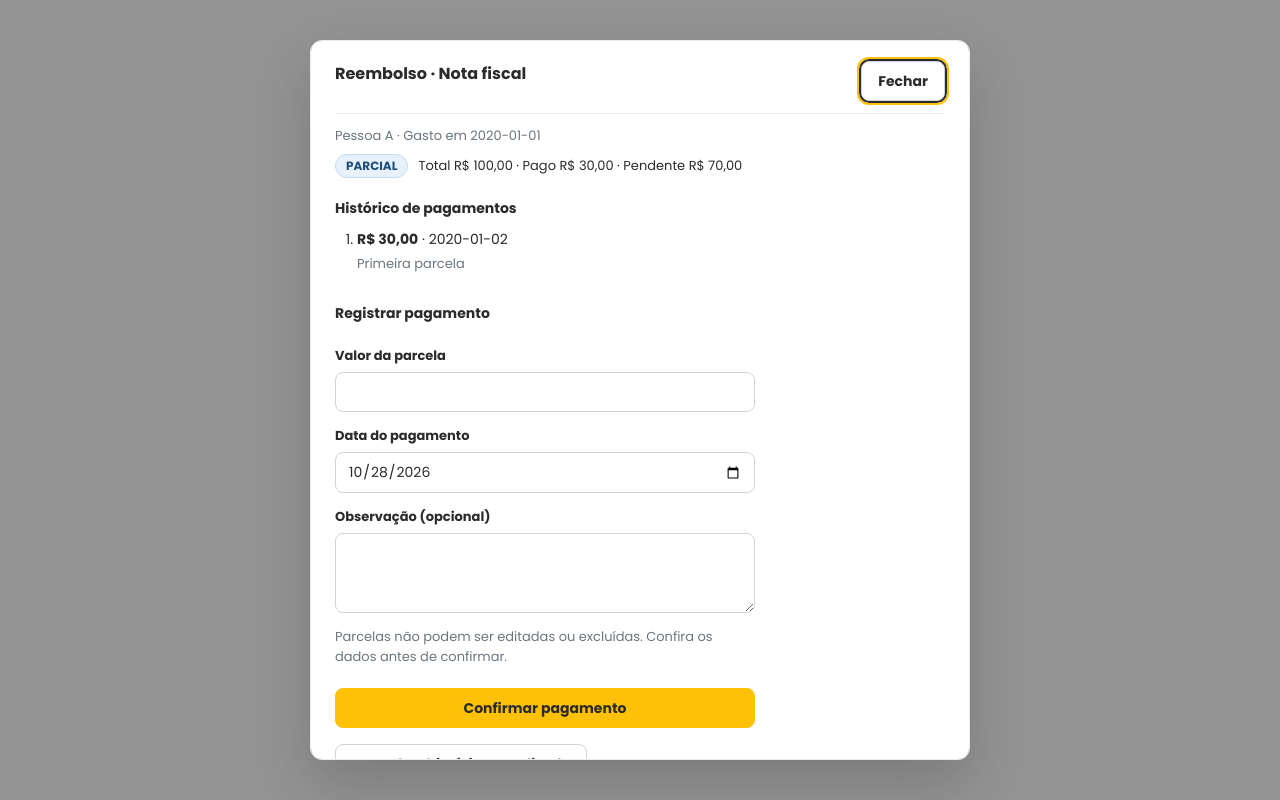
parcelas de reembolso › registra parcela como ADMIN e atualiza resumo
Type "70,00" into the field labelled "Valor da parcela" at (545, 392), box [335,372,755,412]
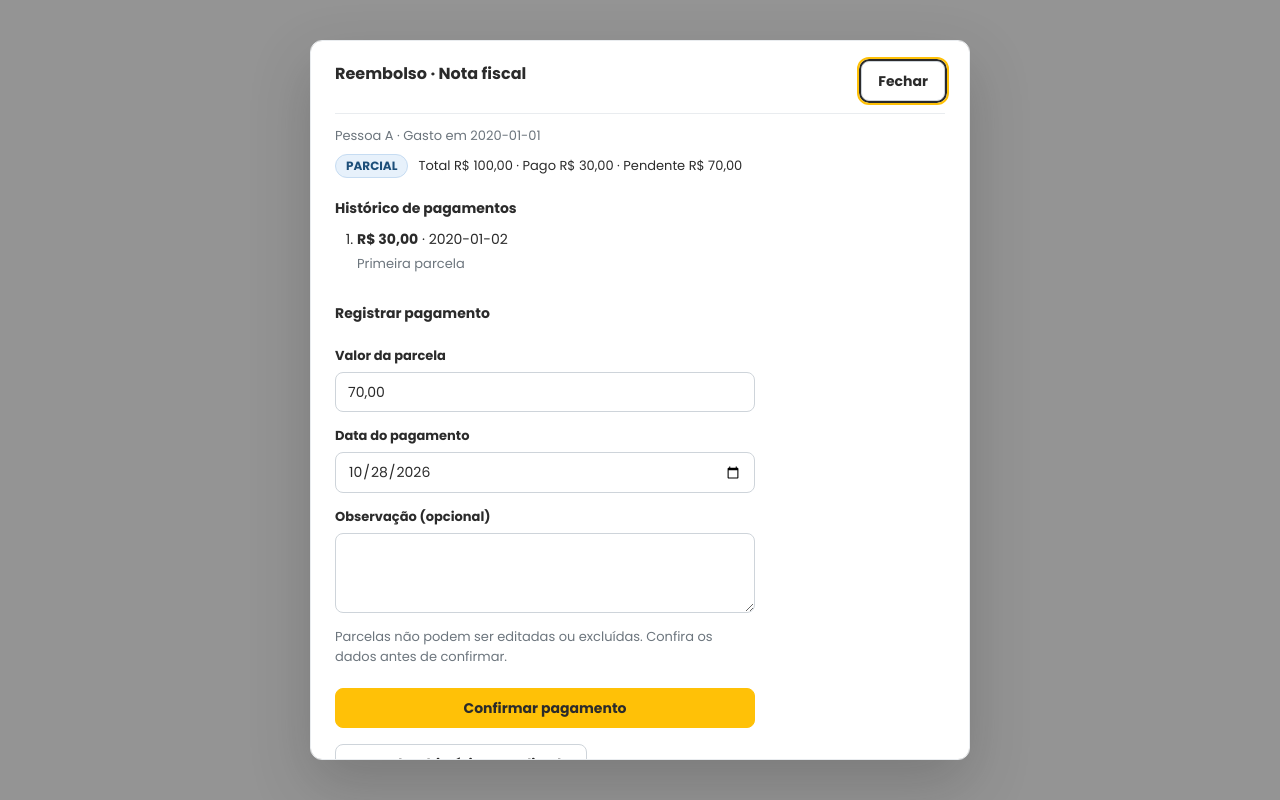
Type "Última parcela" into the text box labelled "Observação (opcional)" at (545, 573), box [335,533,755,613]
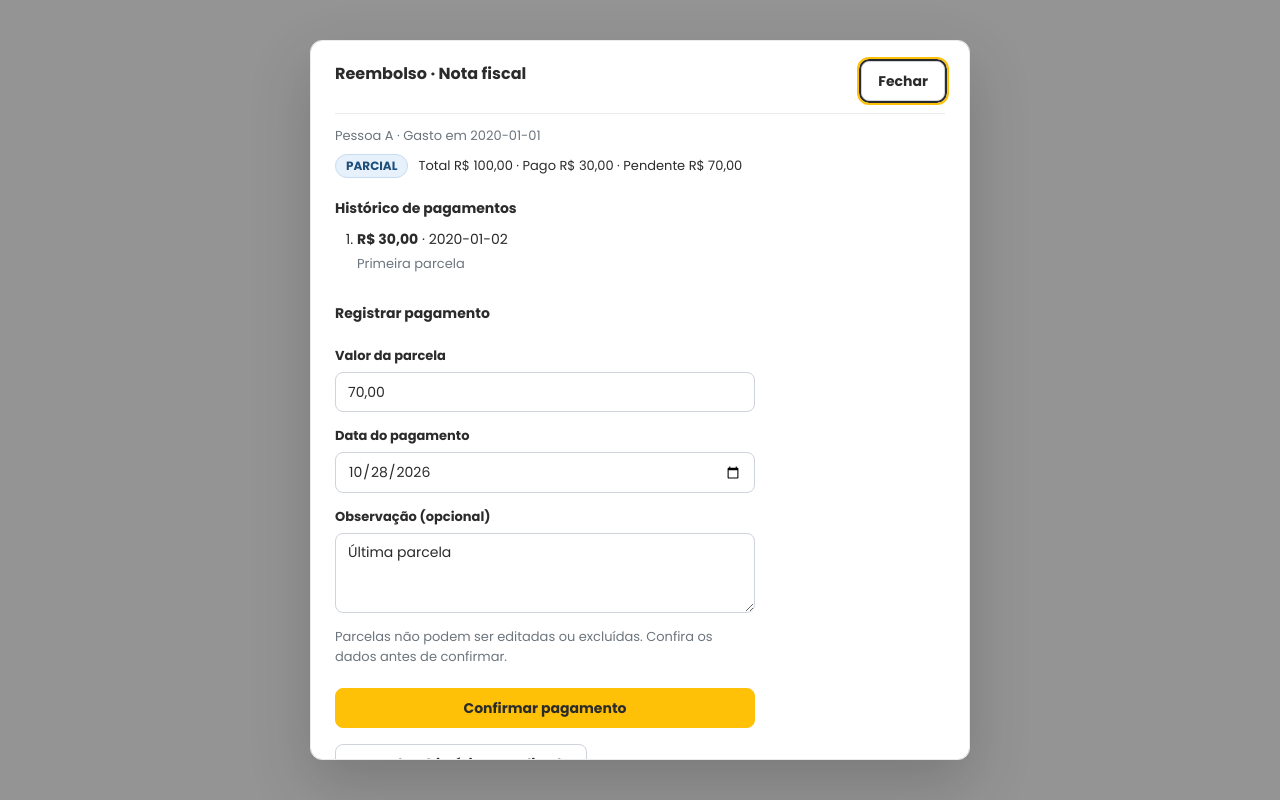
Click the button "Confirmar pagamento" at (545, 708), box [335,688,755,728]
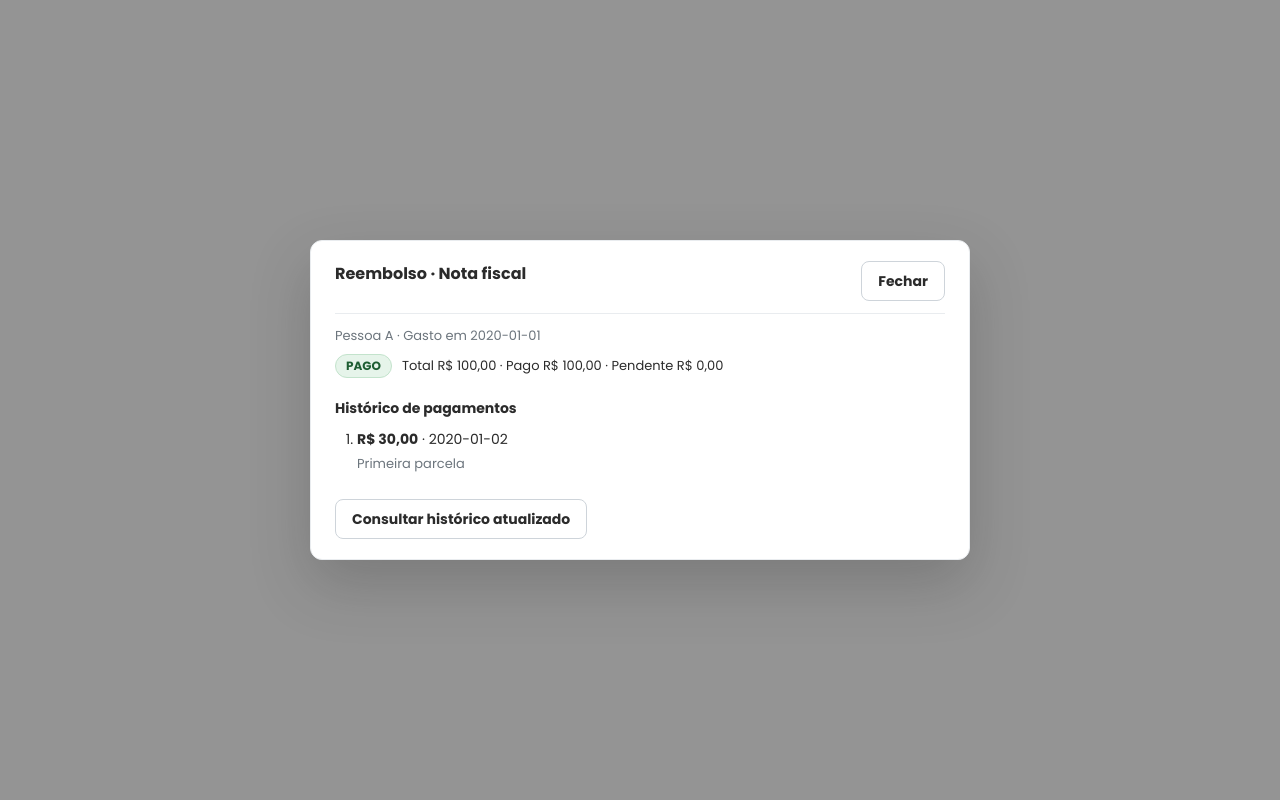
Now the text "PAGO" is shown, box [335,354,392,378]
Now the button "Confirmar pagamento" is gone
